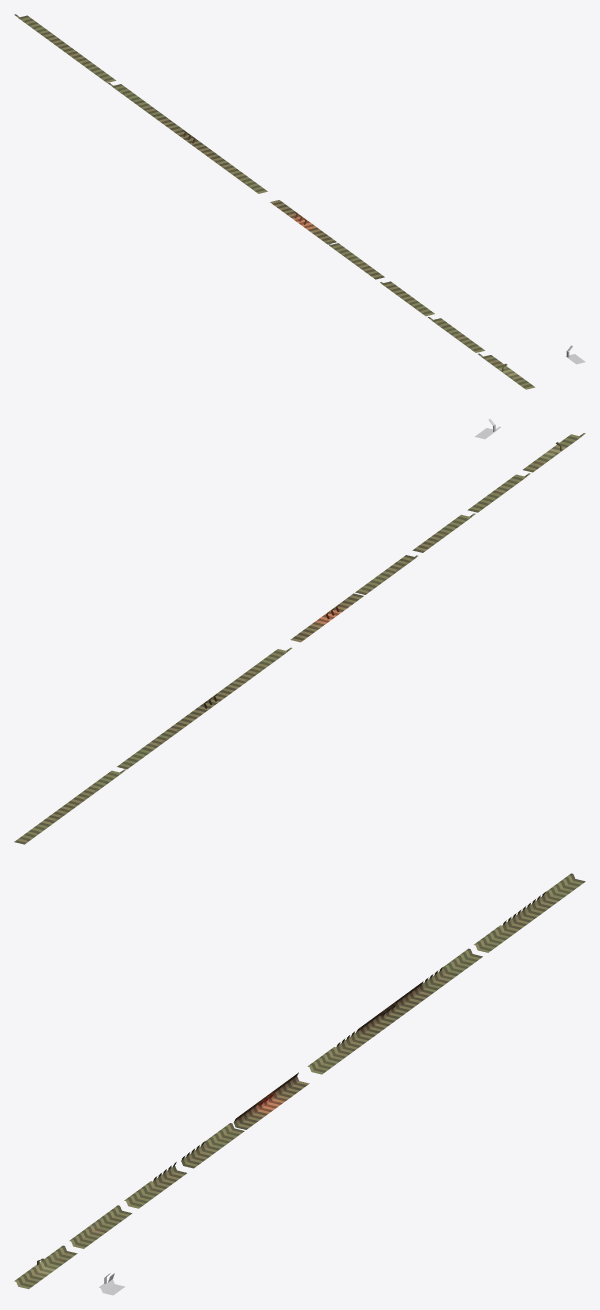
Rendered from road.glb.
3 renders of one model, top to bottom at view 1: azimuth 30°, elevation 25°; view 2: azimuth 150°, elevation 25°; view 3: azimuth 330°, elevation 25°, orthographic. The views are drawn at different scales.
Visible parts, largest first — view 1: Mesh_patio, Mesh_tunnel, Mesh_tunnel_light, Mesh_patio_out2, Mesh_patio_out; view 2: Mesh_patio, Mesh_tunnel_light, Mesh_tunnel, Mesh_patio_out, Mesh_patio_out2, Mesh_lamp, Mesh_road, Mesh_patio_in2; view 3: Mesh_patio, Mesh_tunnel, Mesh_tunnel_light, Mesh_patio_out, Mesh_patio_out2, Mesh_lamp, Mesh_patio_in2, Mesh_road, Mesh_patio_in.
Part boxes in pixels (x1,y1,x2,y2): Mesh_patio: (14, 14, 115, 82); Mesh_tunnel: (158, 118, 225, 162); Mesh_tunnel_light: (270, 200, 336, 244); Mesh_patio_out2: (325, 242, 384, 279); Mesh_patio_out: (108, 83, 167, 120); Mesh_patio: (14, 769, 125, 844); Mesh_tunnel_light: (290, 593, 363, 642); Mesh_tunnel: (168, 683, 241, 731); Mesh_patio_out: (117, 729, 179, 769); Mesh_patio_out2: (355, 555, 417, 594); Mesh_lamp: (523, 433, 585, 472); Mesh_road: (467, 473, 530, 512); Mesh_patio_in2: (412, 513, 475, 552); Mesh_patio: (474, 873, 585, 952); Mesh_tunnel: (356, 983, 431, 1040); Mesh_tunnel_light: (233, 1072, 309, 1129); Mesh_patio_out: (419, 948, 482, 993); Mesh_patio_out2: (181, 1123, 244, 1168); Mesh_lamp: (14, 1245, 77, 1289); Mesh_patio_in2: (124, 1162, 186, 1208); Mesh_road: (69, 1205, 132, 1248); Mesh_patio_in: (307, 1031, 367, 1074).
Bounding box in the file's own units: 40 × 7.12 × 456.
